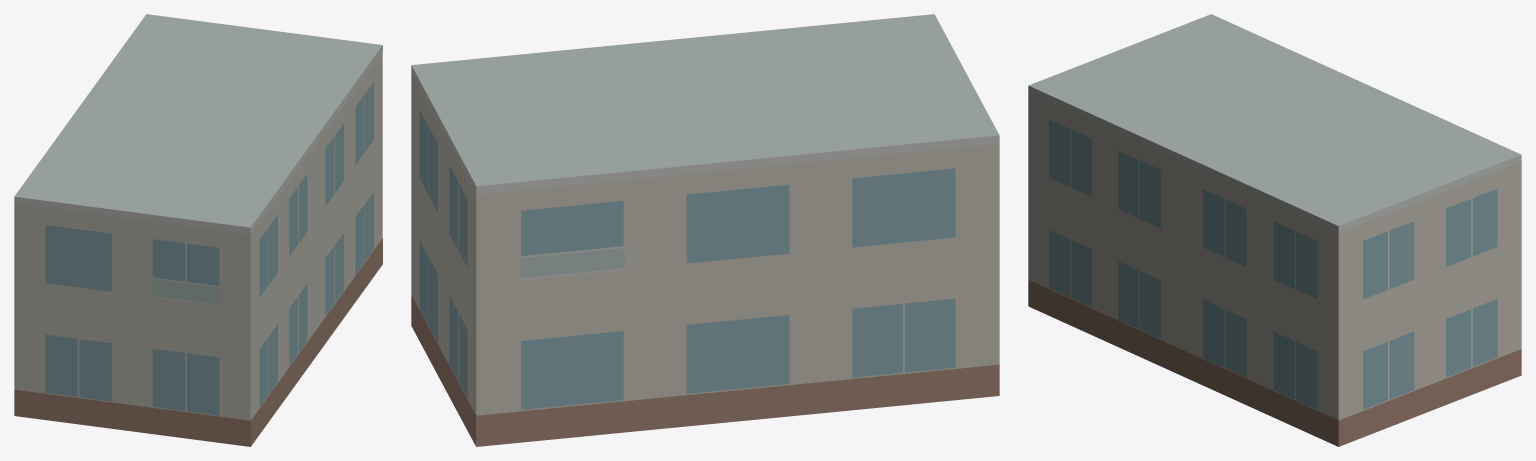
File: survey-upis-33014965.glb
The picture shows the model from 3 angles, left to right: view 1: azimuth 30°, elevation 25°; view 2: azimuth 150°, elevation 25°; view 3: azimuth 270°, elevation 25°; orthographic projection. The views are drawn at different scales.
Visible parts, largest first — view 1: survey-upis-33014965.tmp; view 2: survey-upis-33014965.tmp; view 3: survey-upis-33014965.tmp.
Boxes of the visible parts, left/top/right/bottom form: survey-upis-33014965.tmp: left=14, top=14, right=382, bottom=446; survey-upis-33014965.tmp: left=411, top=14, right=999, bottom=446; survey-upis-33014965.tmp: left=1028, top=14, right=1521, bottom=446.
Size of the model in its own units: 15.67 by 7.6 by 15.4.
